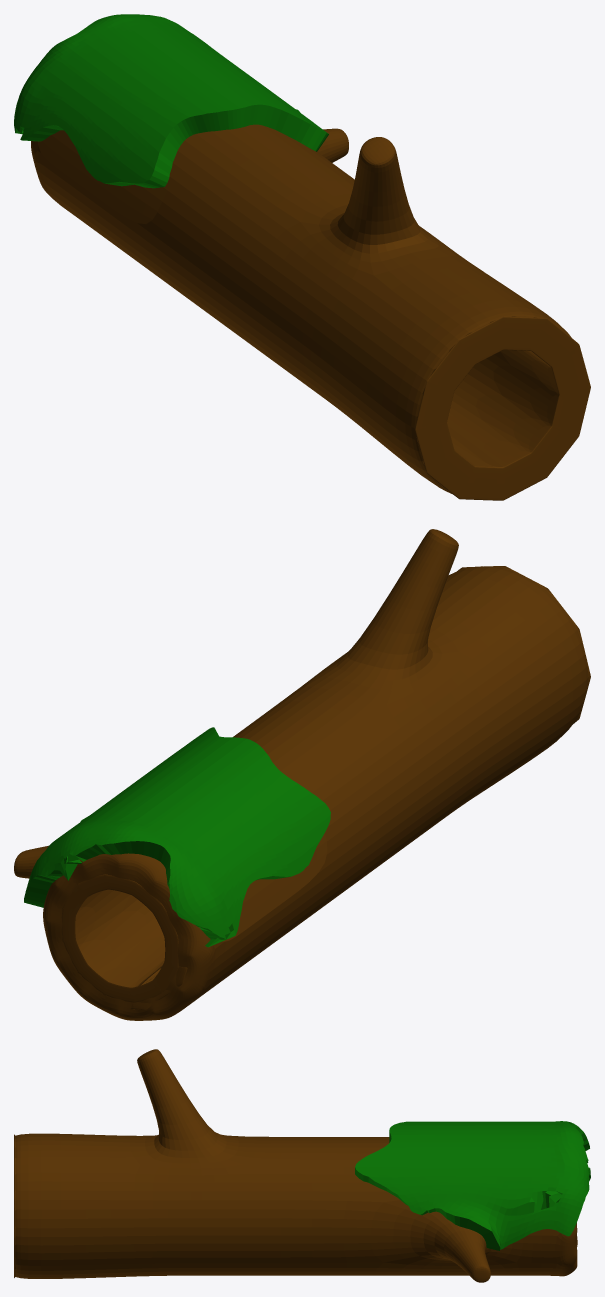
Rendered from Tree4.fbx.
3 views of the same model, one above another, from view 1: azimuth 30°, elevation 25°; view 2: azimuth 150°, elevation 25°; view 3: azimuth 270°, elevation 25° (orthographic). The views are drawn at different scales.
Visible parts, largest first — view 1: 树干, 苔藓; view 2: 树干, 苔藓; view 3: 树干, 苔藓.
Boxes of the visible parts, box(x1,y1,x2,y2) form: 树干: box(31, 124, 590, 500); 苔藓: box(14, 14, 328, 188); 树干: box(14, 529, 590, 1020); 苔藓: box(24, 727, 330, 947); 树干: box(14, 1049, 577, 1282); 苔藓: box(355, 1121, 590, 1250).
Size of the model in its own units: 29.35 by 30.66 by 75.44.
